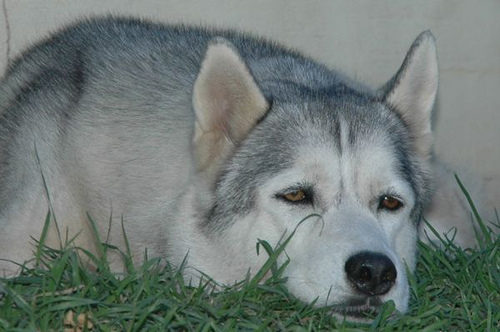dog: (0, 14, 445, 325)
